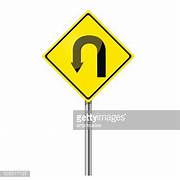back: (42, 9, 134, 103)
